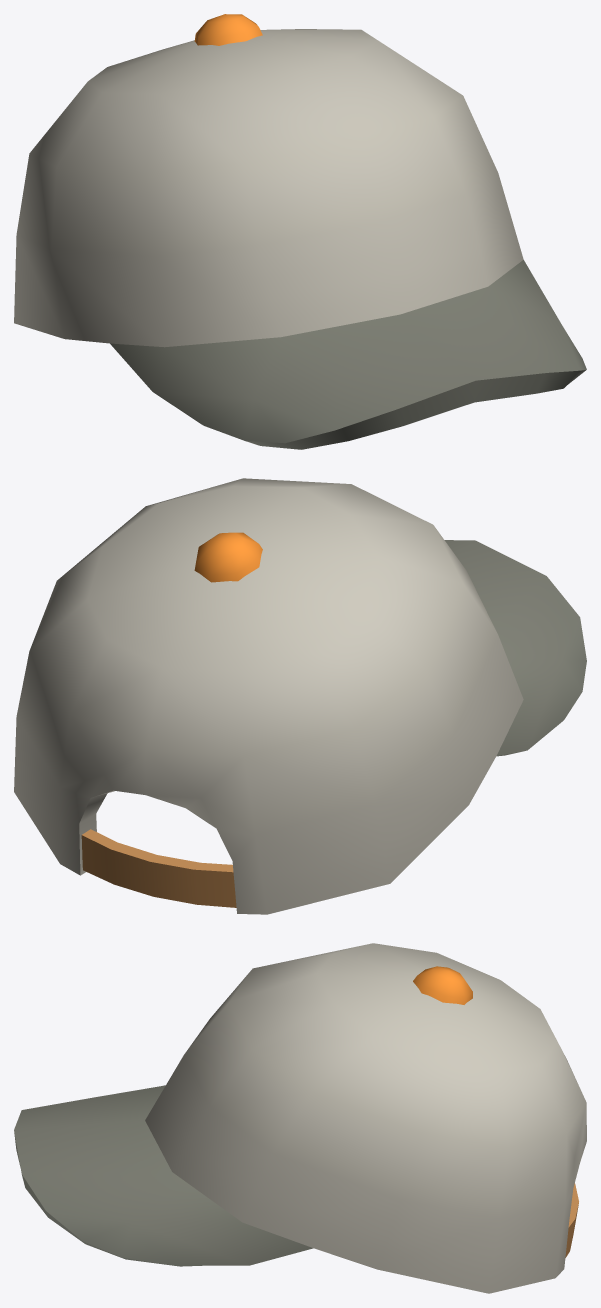
The model's file is Headgear_3.fbx.
3 renders of one model, top to bottom at view 1: azimuth 30°, elevation 25°; view 2: azimuth 150°, elevation 25°; view 3: azimuth 270°, elevation 25°, orthographic. The views are drawn at different scales.
Visible parts, largest first — view 1: Headgear_3; view 2: Headgear_3; view 3: Headgear_3.
Boxes of the visible parts, x1,y1,x2,y2 form: Headgear_3: (14,14,586,449); Headgear_3: (14,478,586,914); Headgear_3: (14,943,586,1293).
Size of the model in its own units: 58.11 by 42.07 by 82.12.
